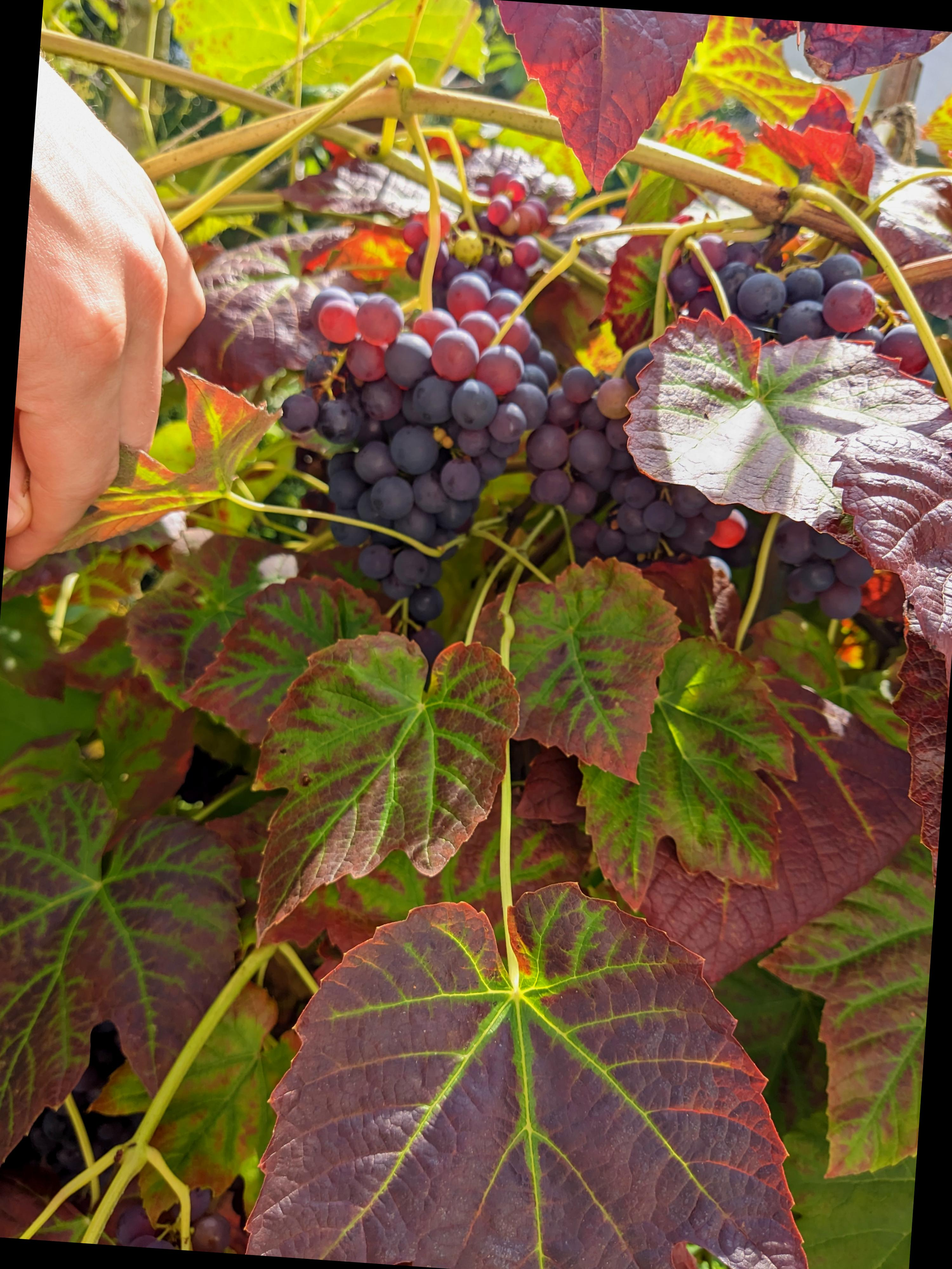Grape Ripe: (314, 227, 606, 598), (566, 309, 800, 535), (776, 215, 952, 340), (444, 128, 598, 270), (813, 483, 923, 591), (158, 1145, 284, 1223)
